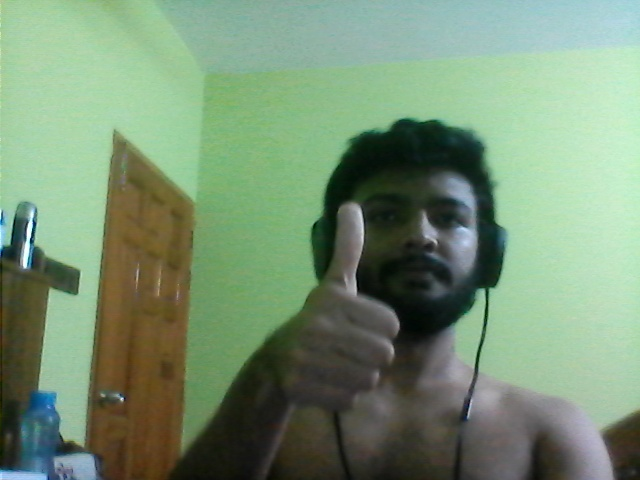Yes: (274, 197, 406, 415)
